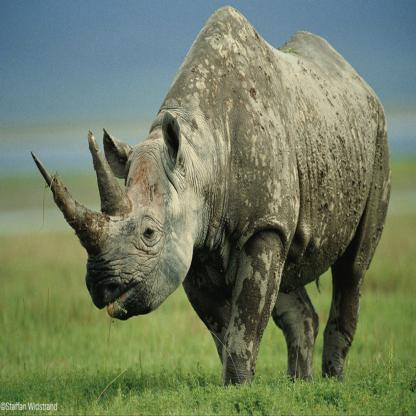Diceros bicornis: (31, 4, 393, 384)
